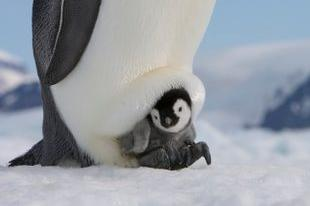Emperor Penguin: (18, 0, 277, 183)
